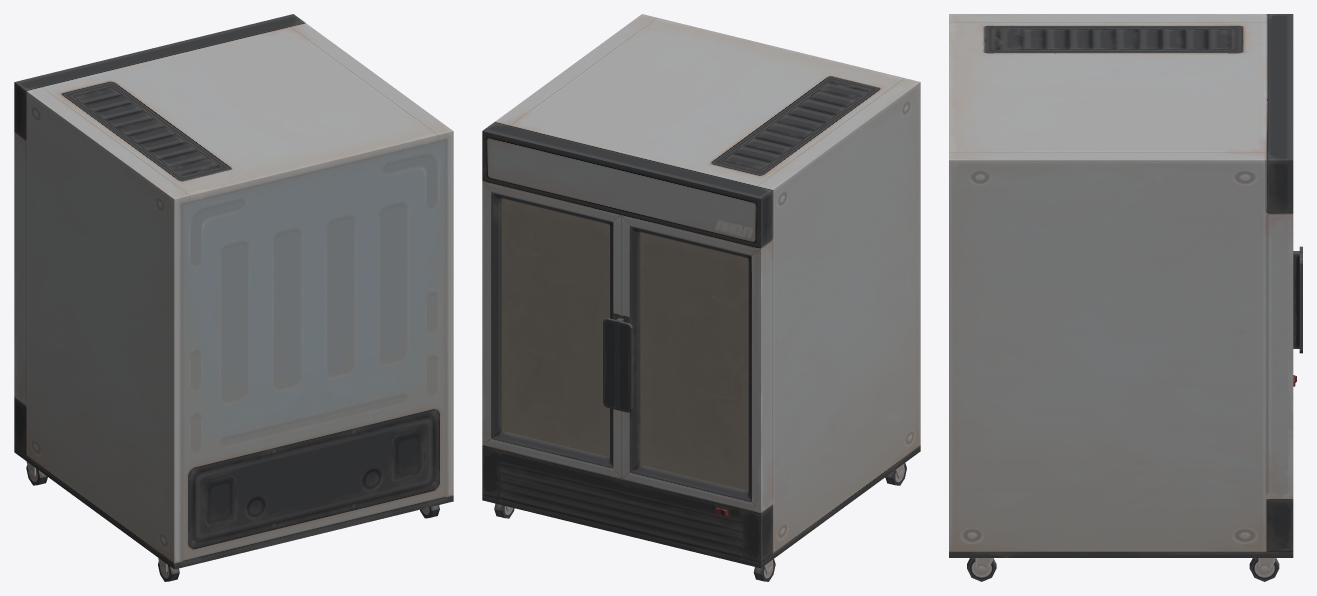
Rendered from P_Freezer_006_S1_M01_Big.obj.
3 renders of one model, left to right at view 1: azimuth 30°, elevation 25°; view 2: azimuth 150°, elevation 25°; view 3: azimuth 270°, elevation 25°, orthographic. The views are drawn at different scales.
Bounding box in the file's own units: 2 × 2.7 × 2.04.
Materials: 177 (177 with a texture image).
